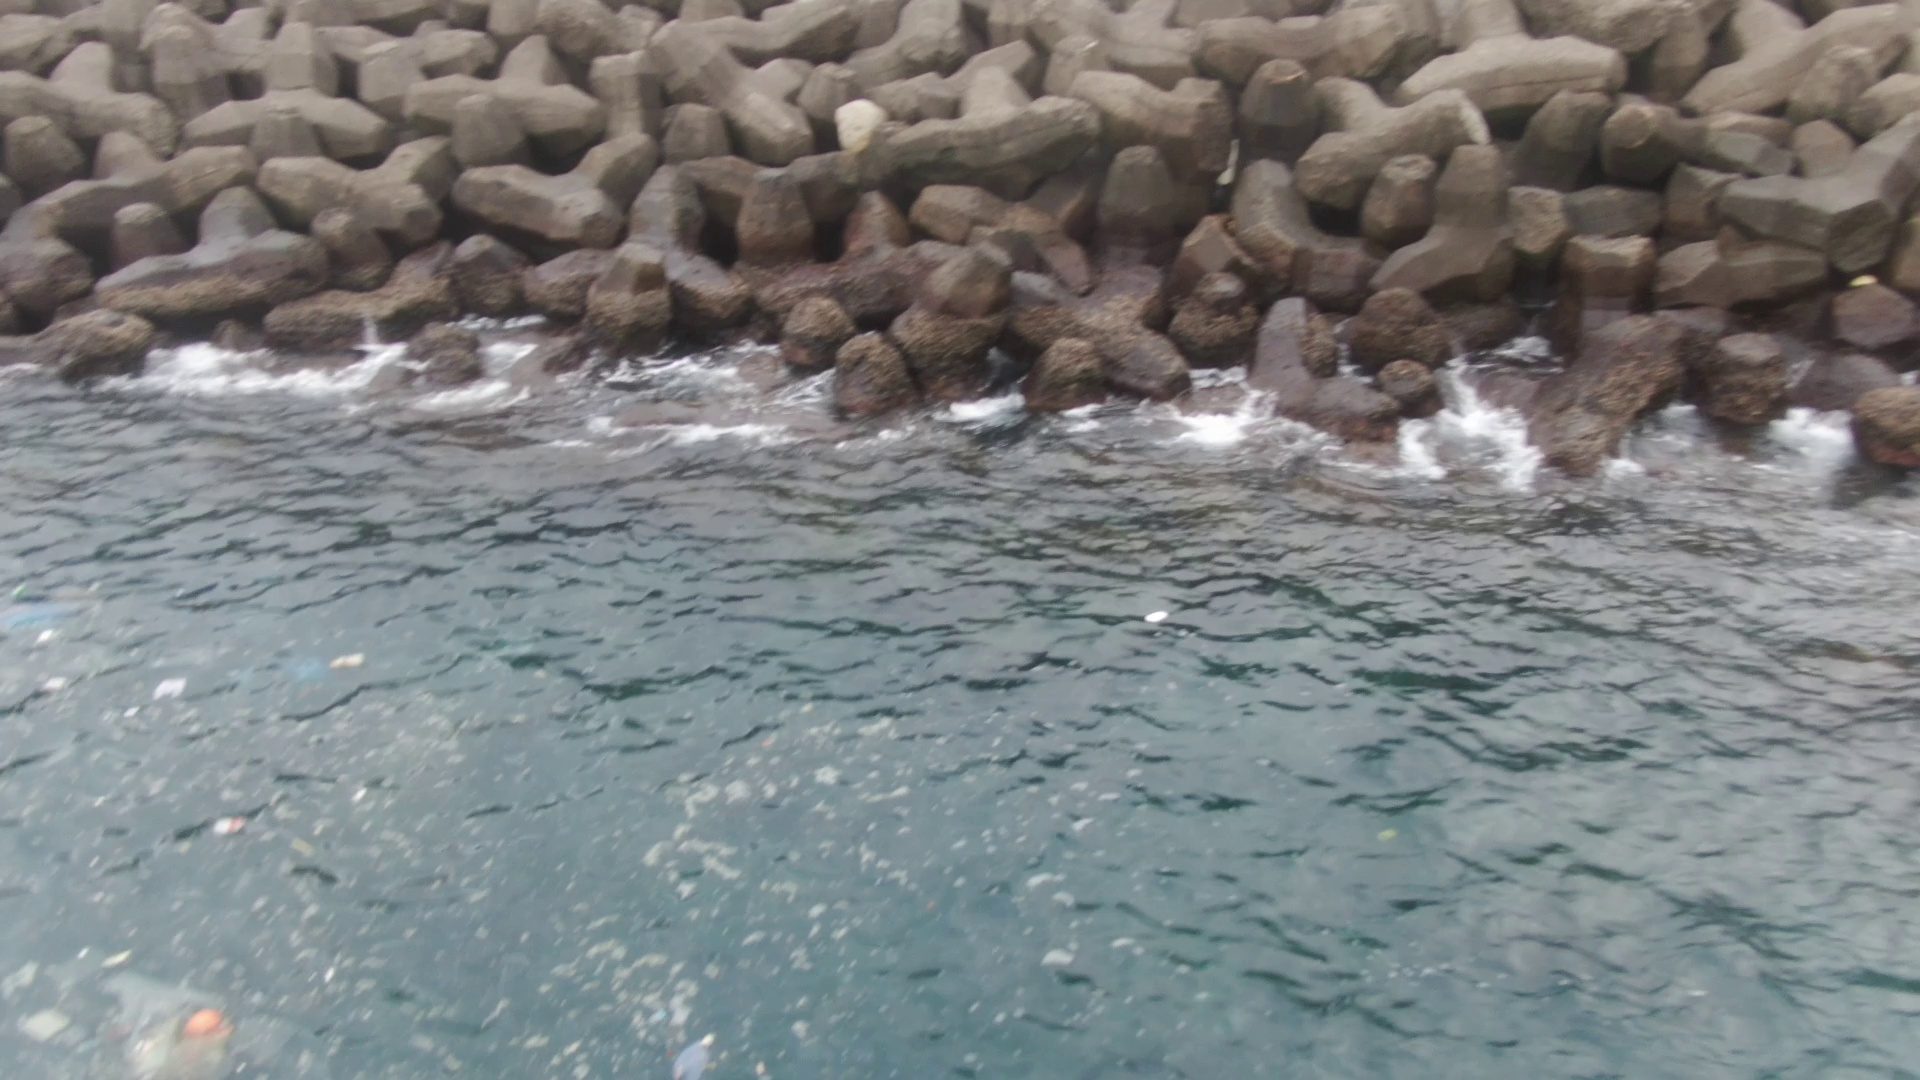garbage: (164, 997, 245, 1056)
